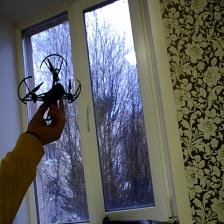drone: (17, 51, 85, 126)
